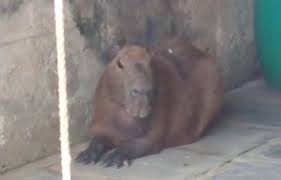capivara: (72, 38, 227, 168)
